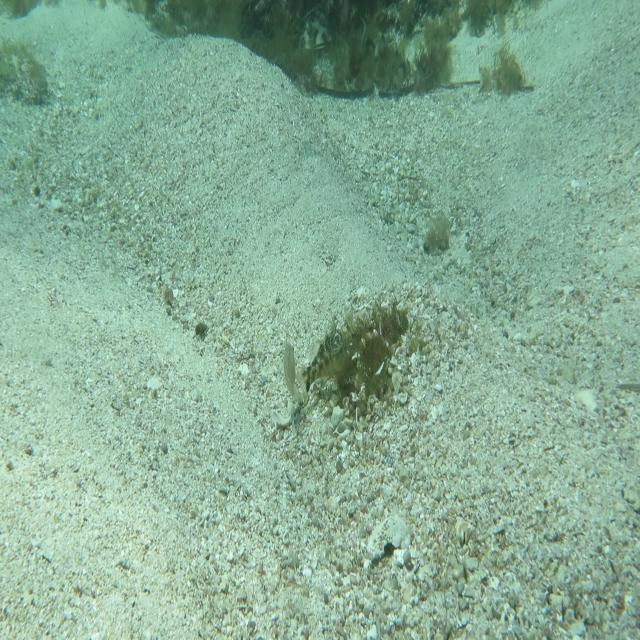BEND: (295, 314, 353, 411)
female: (278, 338, 309, 407)
nest: (316, 284, 411, 418)
vegetation: (244, 0, 512, 71), (421, 206, 454, 260)
